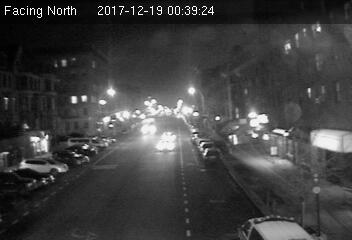car: (203, 148, 222, 165), (156, 138, 177, 153)
police: (237, 214, 319, 240)
